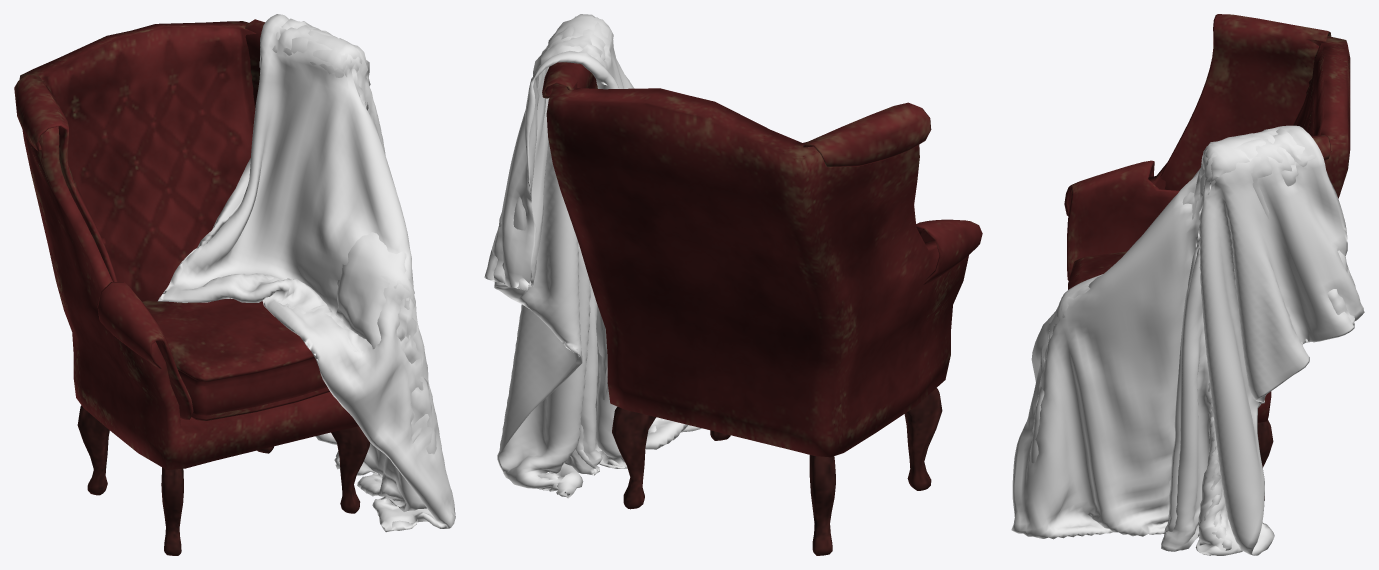
Rendered from armchair.fbx.
3 views of the same model, side by side, from view 1: azimuth 30°, elevation 25°; view 2: azimuth 150°, elevation 25°; view 3: azimuth 270°, elevation 25° (orthographic). The views are drawn at different scales.
Parts seen in each view (by area): view 1: chair, wood; view 2: chair, wood; view 3: wood, chair.
Boxes of the visible parts, <box> form: chair: <box>14,19,370,555</box>; wood: <box>157,14,455,532</box>; chair: <box>542,62,982,555</box>; wood: <box>484,14,701,498</box>; wood: <box>1011,125,1364,555</box>; chair: <box>1064,14,1350,500</box>.
Size of the model in its own units: 569 by 615 by 496.
